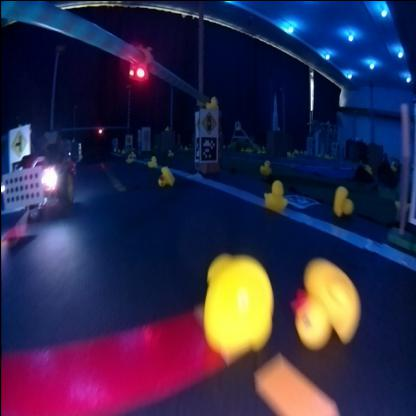Duckie: (203, 252, 273, 361), (292, 257, 358, 344), (264, 179, 288, 209), (333, 185, 353, 215), (158, 166, 175, 186), (260, 160, 272, 174), (206, 95, 218, 107), (147, 154, 158, 164), (127, 152, 133, 160)
Duckiebot: (2, 150, 76, 210)
Intersection sign: (11, 127, 28, 156)
QR code: (286, 192, 318, 206), (200, 134, 217, 160)
Signal sign: (201, 109, 217, 133)
Traffic light: (130, 46, 152, 79)
